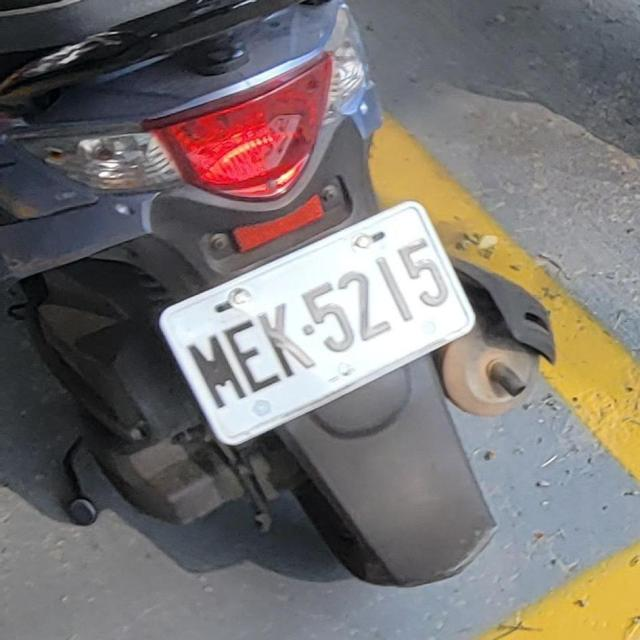W: (142, 194, 502, 455)
